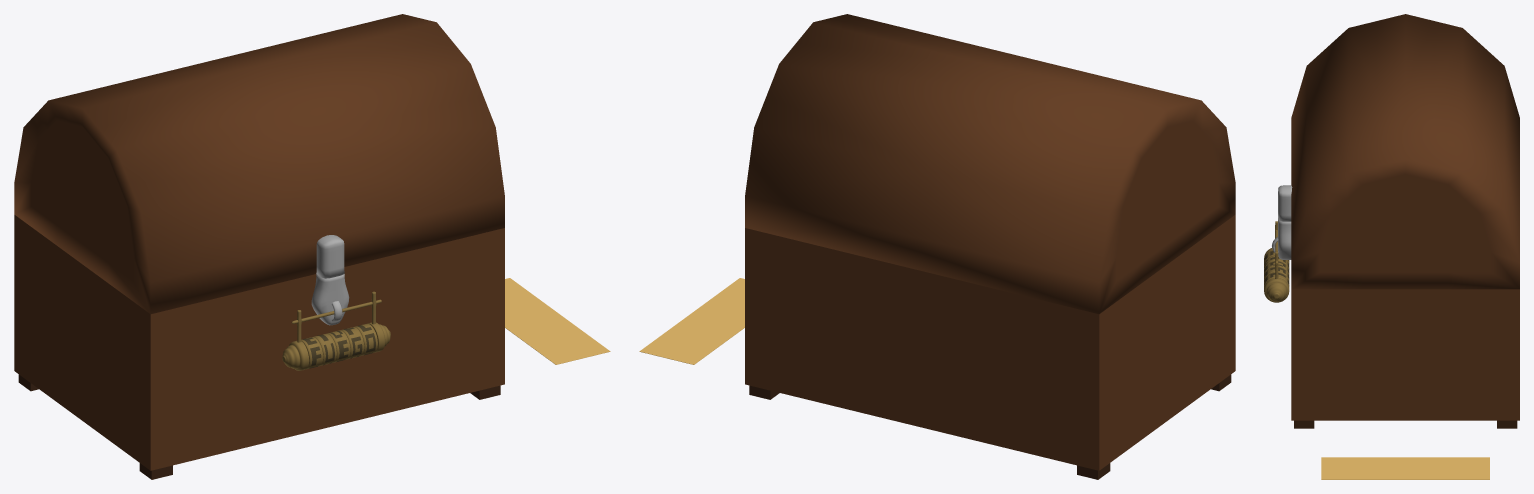
File: Cofre+Candado+Llave+AcertijoCaja+AcertijoFuego.fbx
3 views of the same model, side by side, from view 1: azimuth 30°, elevation 25°; view 2: azimuth 150°, elevation 25°; view 3: azimuth 270°, elevation 25° (orthographic). The views are drawn at different scales.
Visible parts, largest first — view 1: CofreParte1, CofreParte2, AcertijoCaja, BaseCandadoAlfabético; view 2: CofreParte1, CofreParte2, AcertijoCaja; view 3: CofreParte1, CofreParte2, AcertijoCaja, BaseCandadoAlfabético.
Part boxes in pixels (bbox=[...]): CofreParte1: bbox=[14, 14, 504, 314]; CofreParte2: bbox=[14, 215, 504, 479]; AcertijoCaja: bbox=[505, 278, 610, 364]; BaseCandadoAlfabético: bbox=[282, 291, 390, 370]; CofreParte1: bbox=[745, 14, 1235, 314]; CofreParte2: bbox=[745, 215, 1235, 479]; AcertijoCaja: bbox=[639, 278, 744, 364]; CofreParte1: bbox=[1278, 14, 1519, 289]; CofreParte2: bbox=[1272, 218, 1519, 428]; AcertijoCaja: bbox=[1321, 457, 1489, 479]; BaseCandadoAlfabético: bbox=[1264, 221, 1289, 302].
Bounding box in the file's own units: 43.7 × 28.24 × 24.18.
